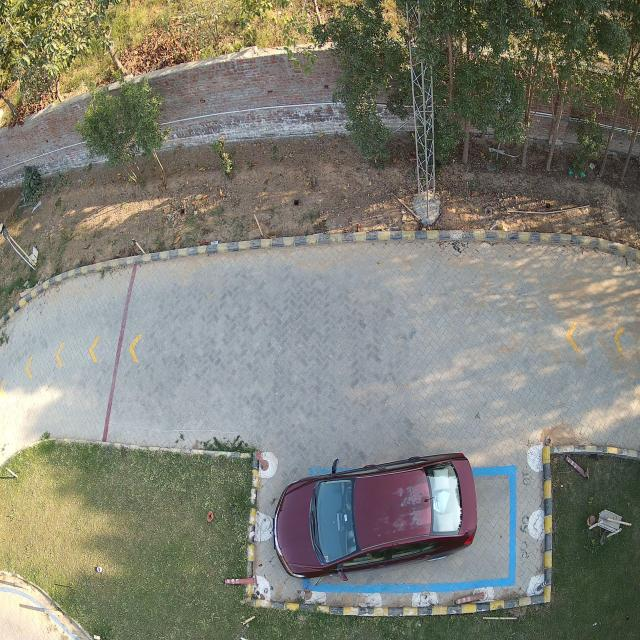car: (274, 455, 478, 577)
